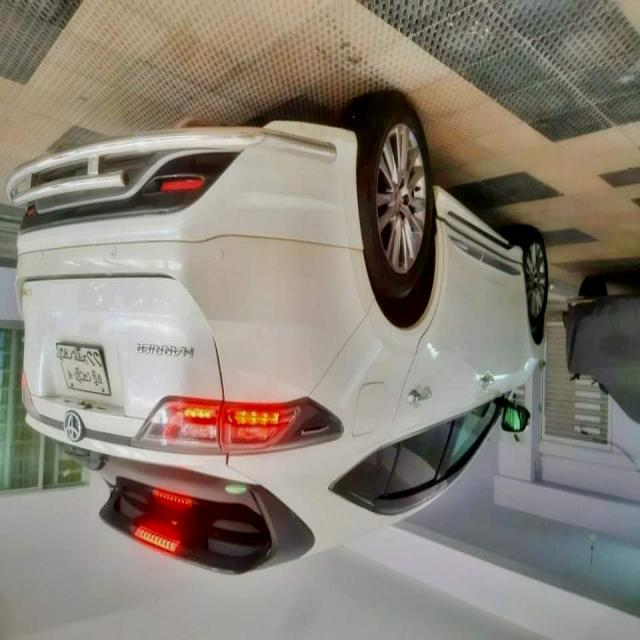white: (0, 119, 558, 578)
